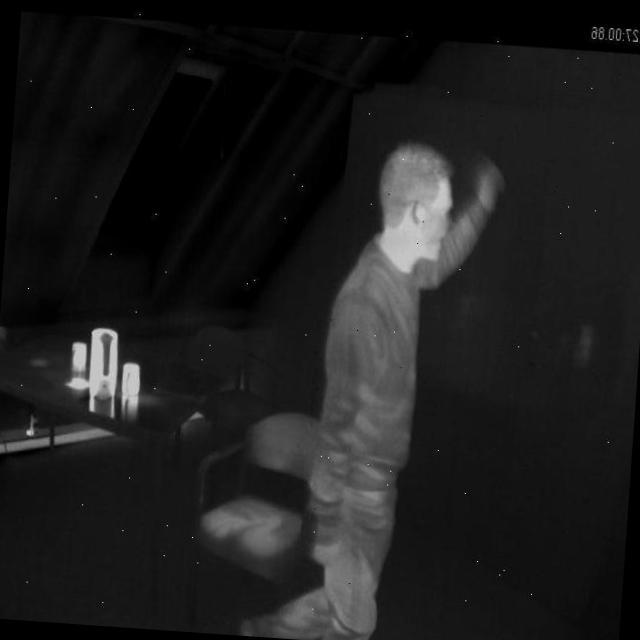person: (290, 131, 504, 640)
